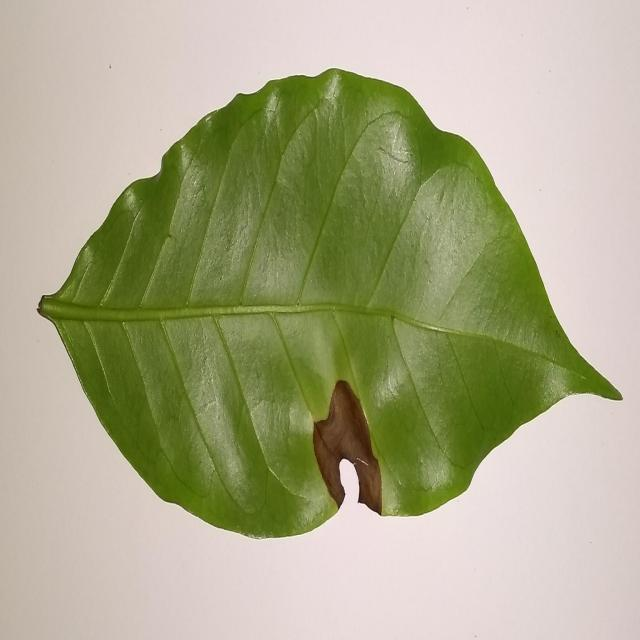phoma: (313, 380, 382, 514)
